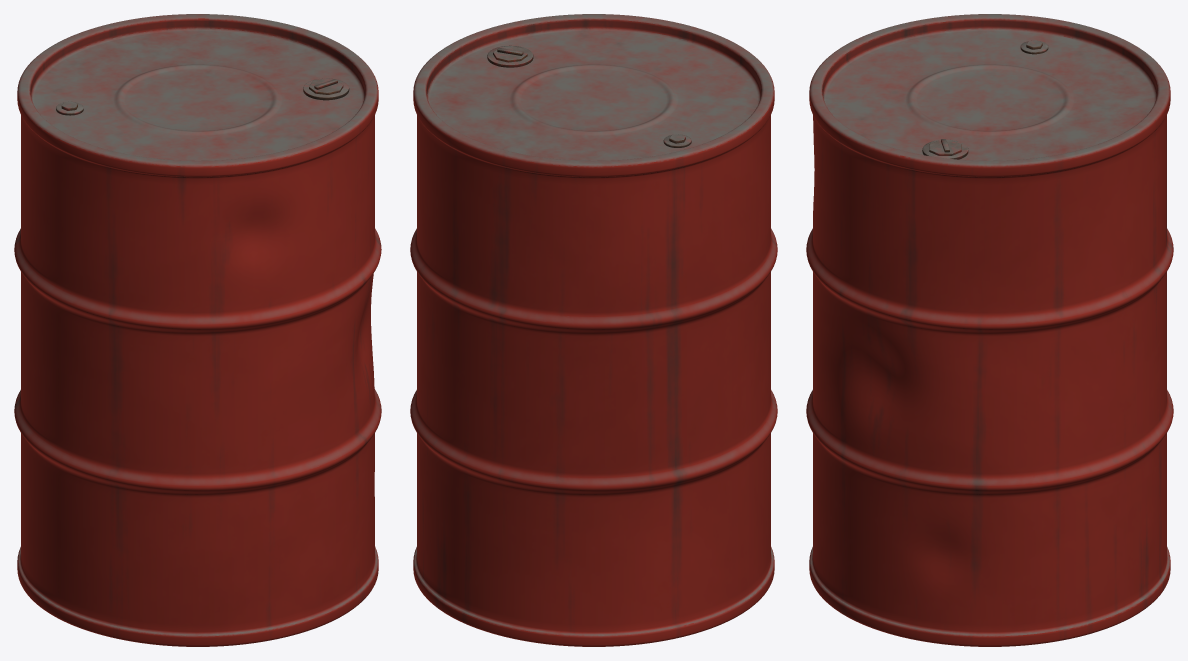
File: SM_OilDrum_Red.fbx
3 renders of one model, left to right at view 1: azimuth 30°, elevation 25°; view 2: azimuth 150°, elevation 25°; view 3: azimuth 270°, elevation 25°, orthographic.
Visible parts, largest first — view 1: SM_OilDrum_Red; view 2: SM_OilDrum_Red; view 3: SM_OilDrum_Red.
Boxes of the visible parts, x1,y1,x2,y2 form: SM_OilDrum_Red: [14, 14, 381, 646]; SM_OilDrum_Red: [410, 14, 777, 646]; SM_OilDrum_Red: [806, 14, 1173, 646].
Size of the model in its own units: 0.607 by 0.88 by 0.607.
1 material, 1 textured.
